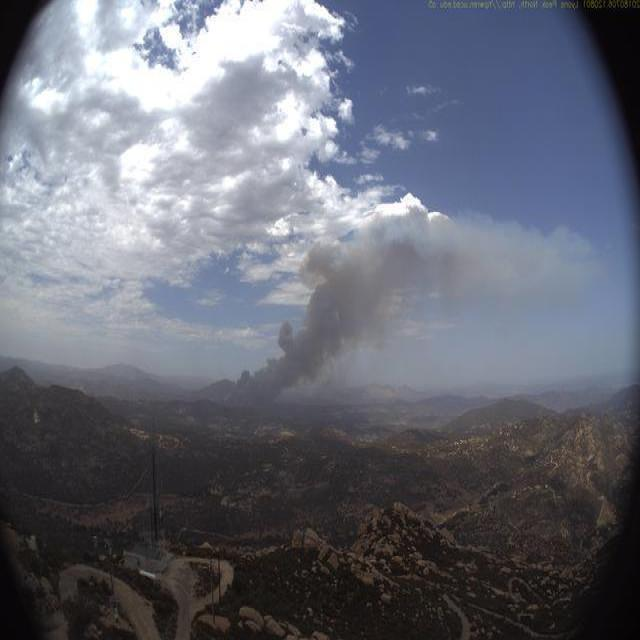Smoke: (189, 202, 591, 426)
